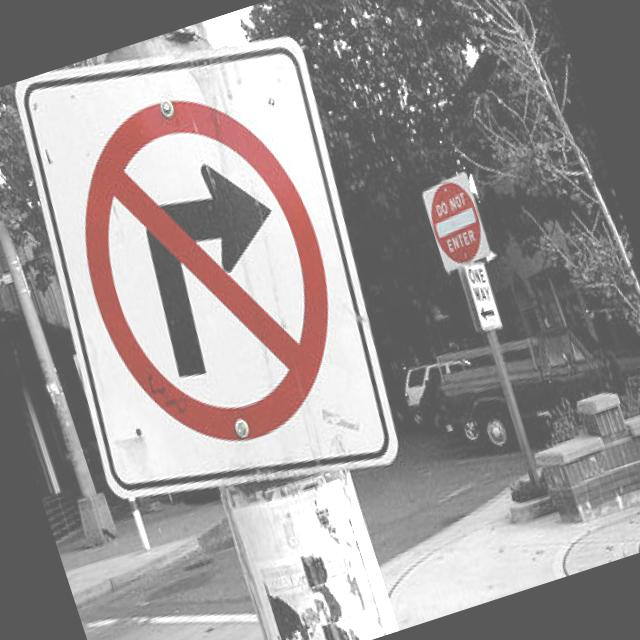Vehicle: (431, 293, 640, 467), (398, 350, 479, 408)
